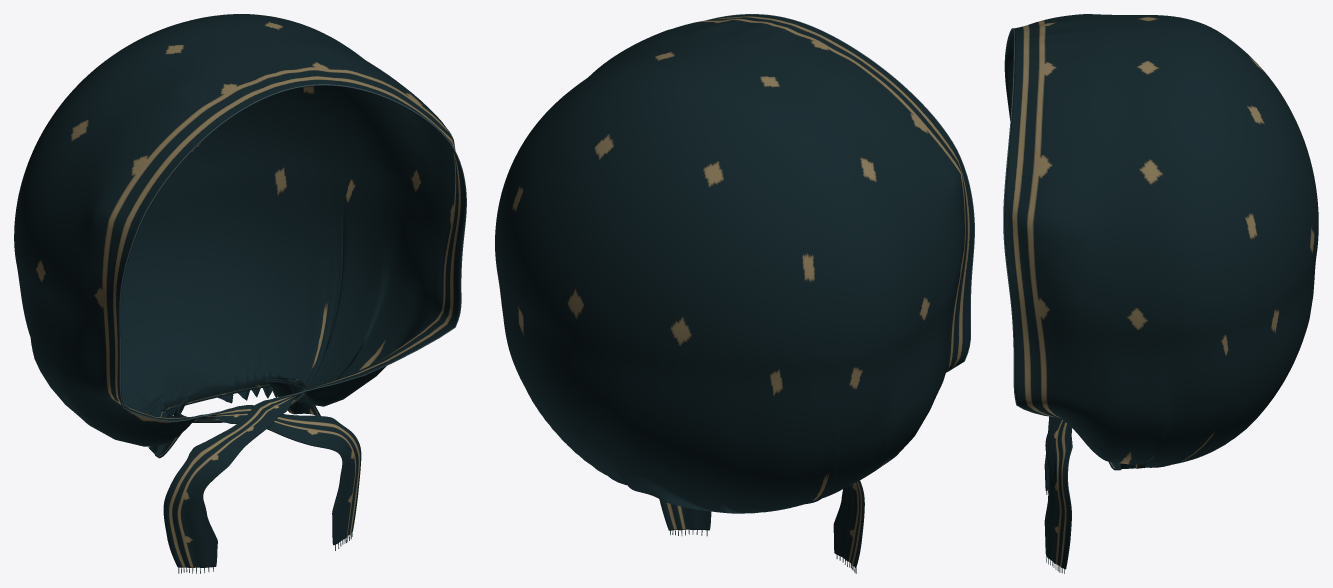
The model's file is Masculine-locs-sweatshirt-pashmina250-headgear.glb.
The picture shows the model from 3 angles, left to right: view 1: azimuth 30°, elevation 25°; view 2: azimuth 150°, elevation 25°; view 3: azimuth 270°, elevation 25°; orthographic projection. The views are drawn at different scales.
Parts seen in each view (by area): view 1: 226 headgear / Headwear / continuous woven pashmina239, 226 headgear / Headwear / face edge239; view 2: 226 headgear / Headwear / continuous woven pashmina239, 226 headgear / Headwear / face edge239; view 3: 226 headgear / Headwear / continuous woven pashmina239, 226 headgear / Headwear / face edge239.
Boxes of the visible parts, bbox=[...] form: 226 headgear / Headwear / continuous woven pashmina239: bbox=[14, 14, 465, 567]; 226 headgear / Headwear / face edge239: bbox=[119, 84, 466, 422]; 226 headgear / Headwear / continuous woven pashmina239: bbox=[495, 14, 974, 567]; 226 headgear / Headwear / face edge239: bbox=[706, 14, 974, 372]; 226 headgear / Headwear / continuous woven pashmina239: bbox=[1004, 14, 1318, 569]; 226 headgear / Headwear / face edge239: bbox=[1003, 28, 1048, 416].
Bounding box in the file's own units: 1.1 × 1.39 × 0.7988.
3 materials, 1 textured.
